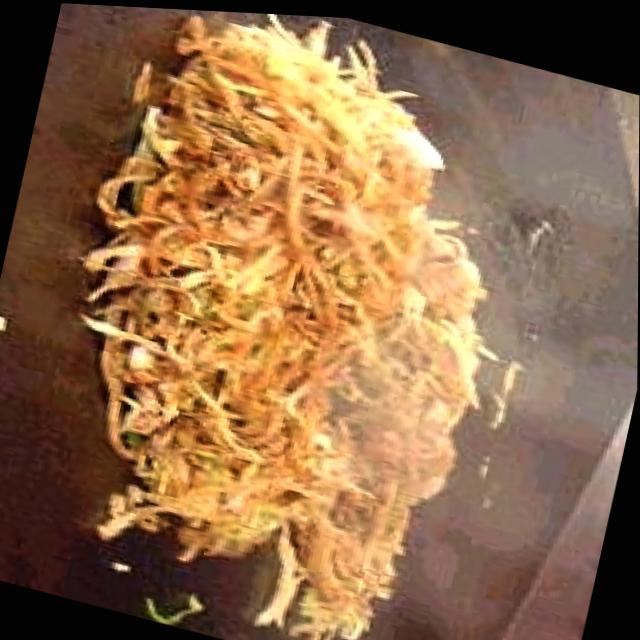面条主食: (1, 0, 611, 640)
